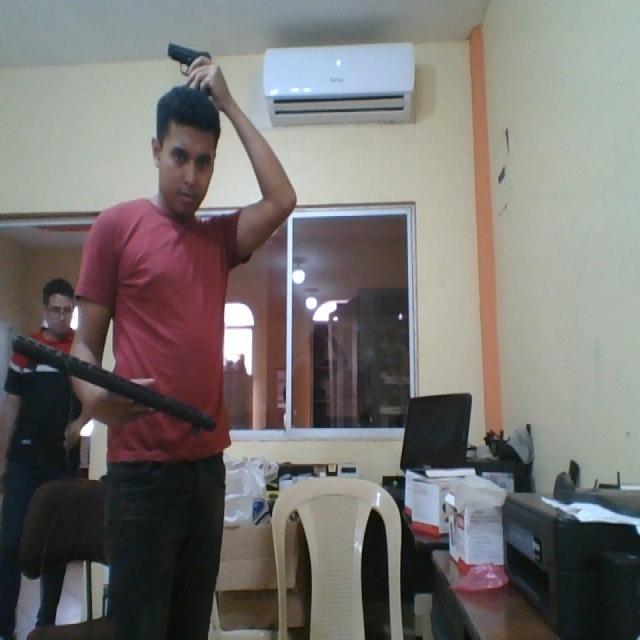weapon: (164, 0, 217, 95)
